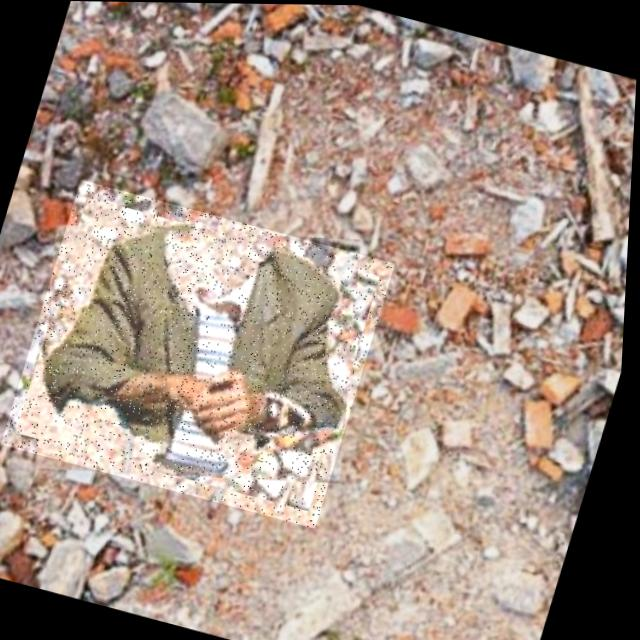Person in Rubble: (2, 178, 401, 528)
